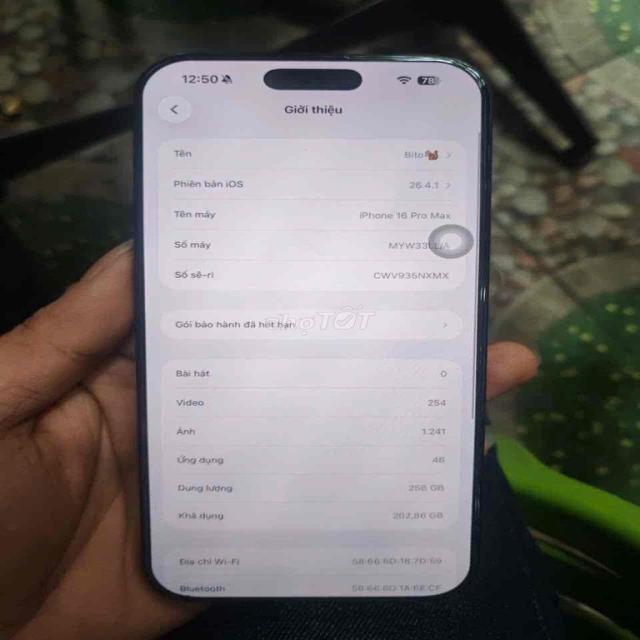gen_16: (135, 54, 489, 603)
